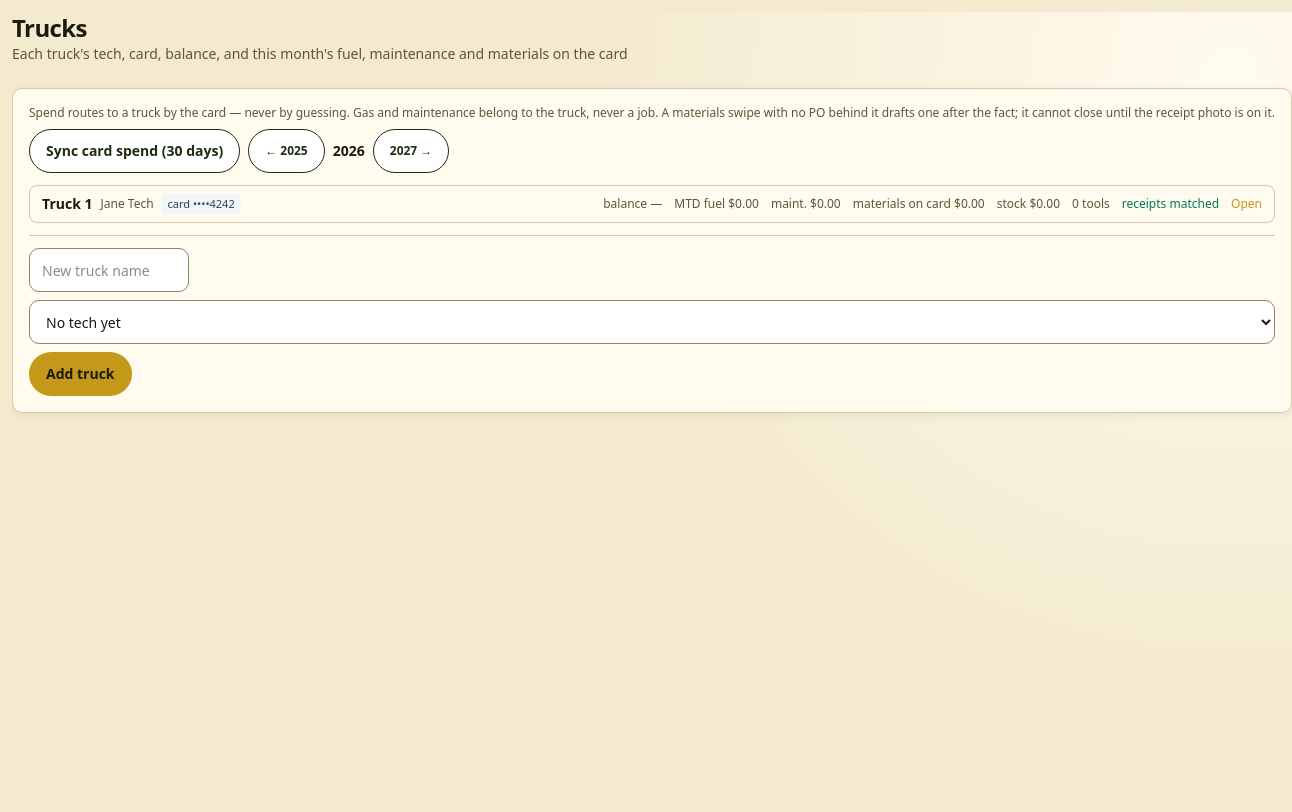
Test: TrucksPage — Refunds not on a P.O. › shows the empty state when nothing qualifies
Click the text "Truck 1". click: (67, 204)
box: [42, 194, 92, 214]
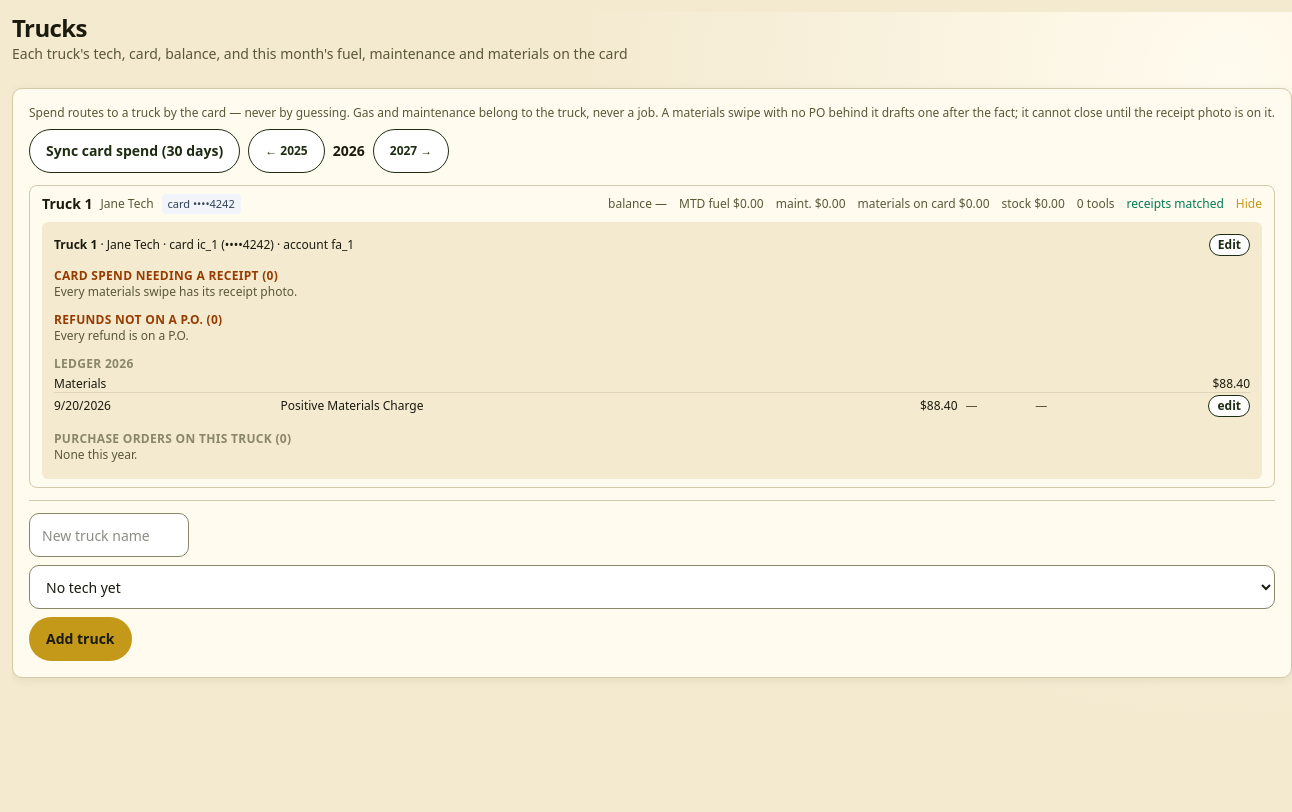
Expected: the text "Refunds not on a P.O. (0)" is shown, [54, 311, 222, 328]
Expected: the text "Every refund is on a P.O." is shown, [54, 327, 189, 344]
